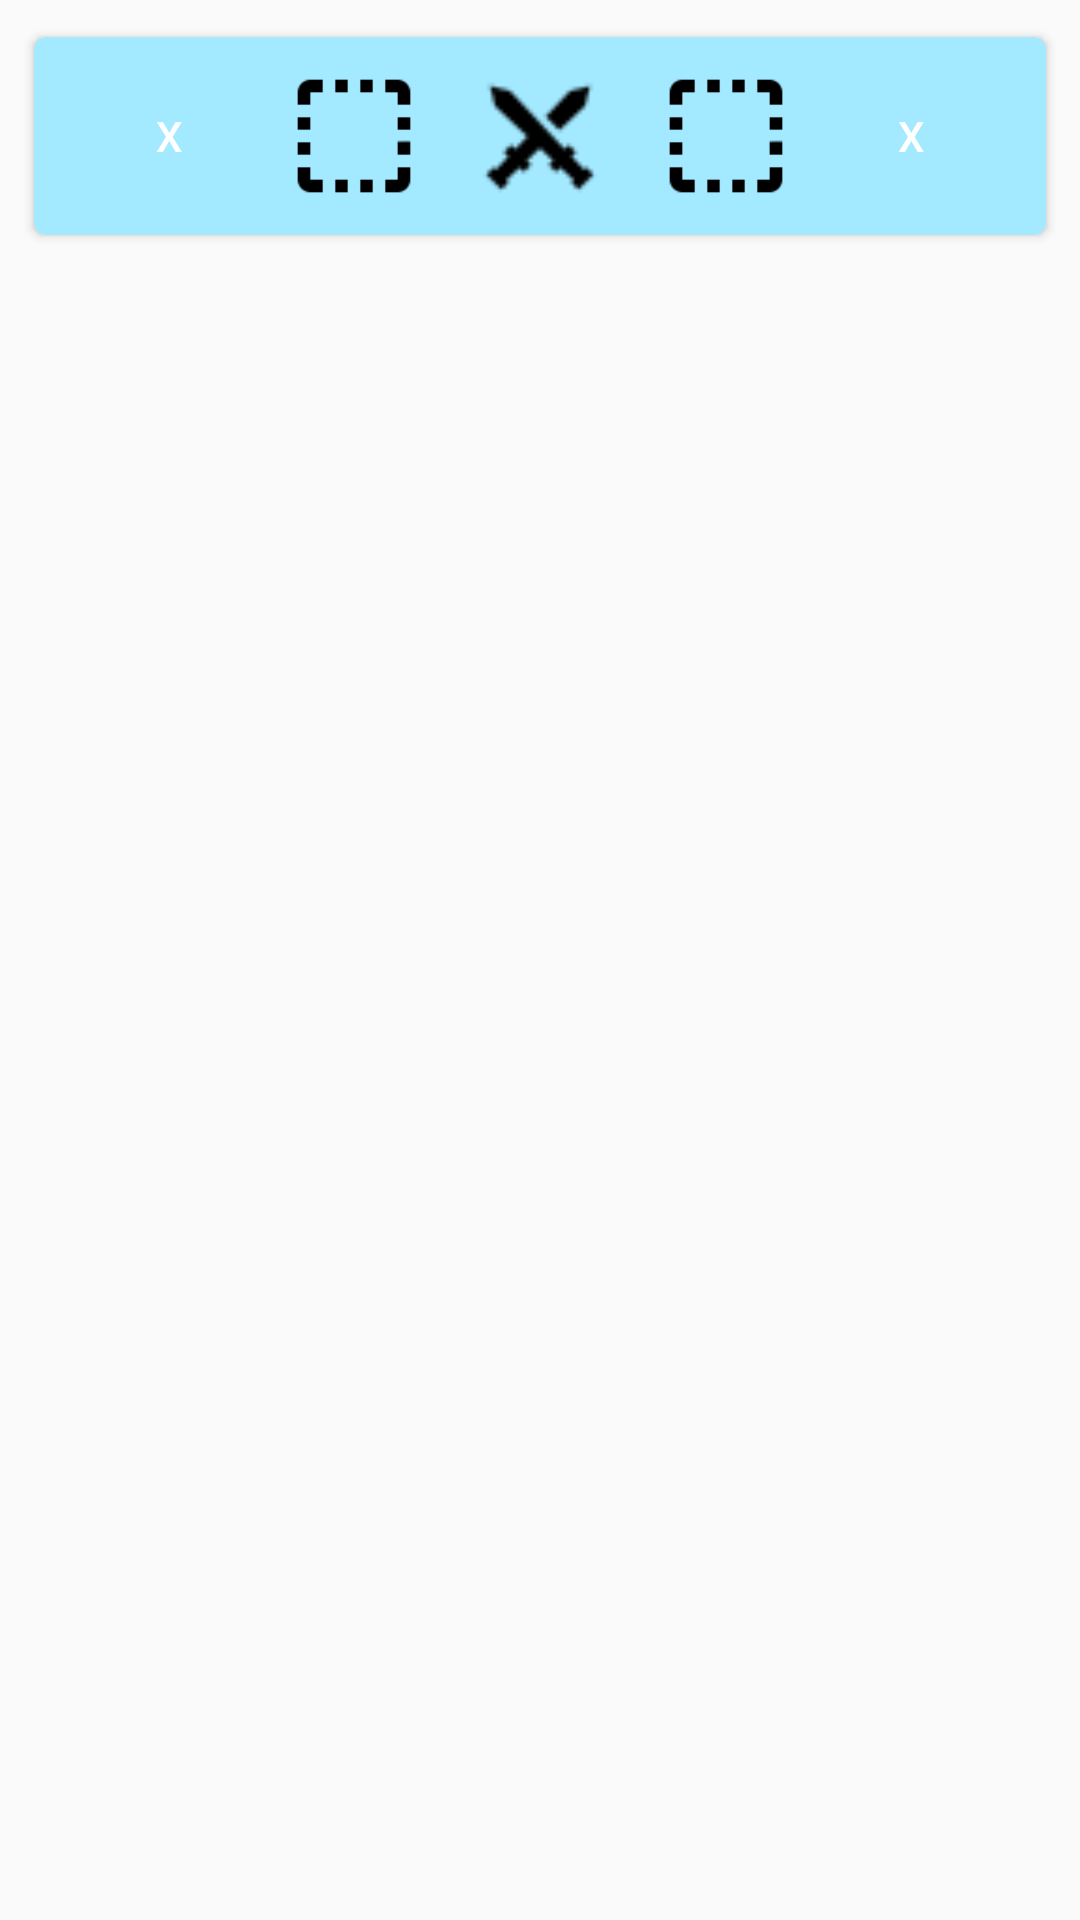

Icons on this 1080×1920 Android screen, each with the point to tap as (x=x, y=y):
battle: (x=540, y=137)
empty: (x=354, y=136), (x=726, y=136)
